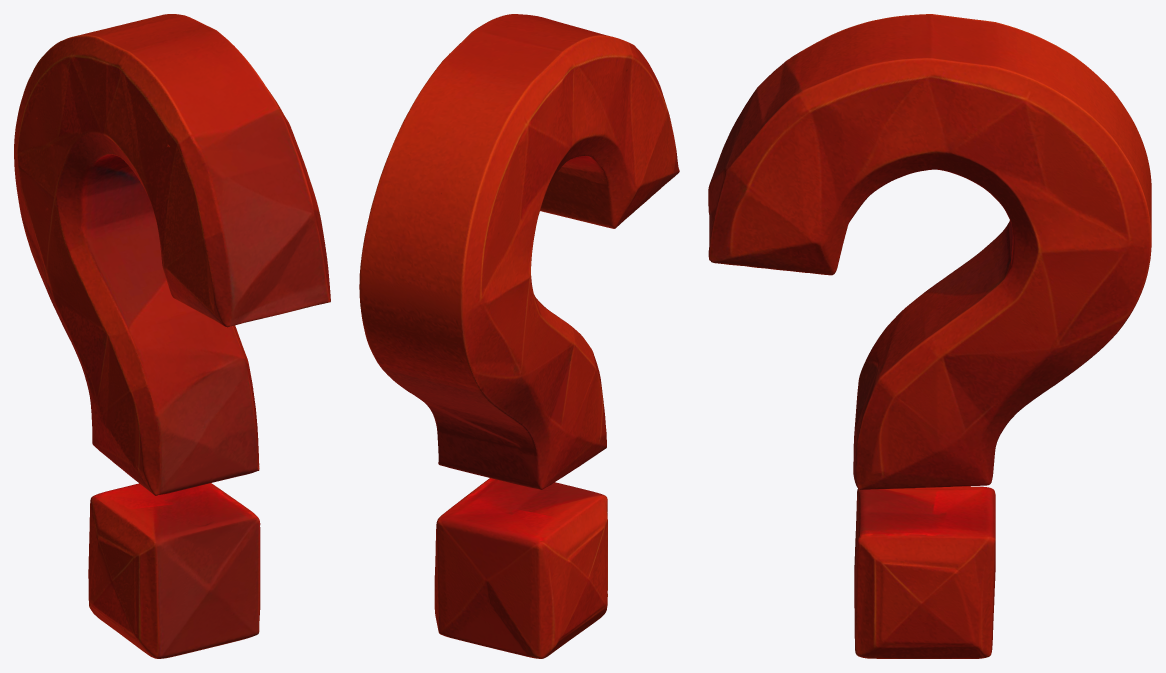
Rendered from Znak_Zapytania.glb.
3 views of the same model, side by side, from view 1: azimuth 30°, elevation 25°; view 2: azimuth 150°, elevation 25°; view 3: azimuth 270°, elevation 25° (orthographic). The views are drawn at different scales.
Parts seen in each view (by area): view 1: tripo_node_4ef3e56b; view 2: tripo_node_4ef3e56b; view 3: tripo_node_4ef3e56b.
Part boxes in pixels (left/top/right/bottom): tripo_node_4ef3e56b: left=14, top=14, right=330, bottom=658; tripo_node_4ef3e56b: left=359, top=14, right=679, bottom=658; tripo_node_4ef3e56b: left=708, top=14, right=1151, bottom=658.
Size of the model in its own units: 0.2304 by 1 by 0.6675.
Materials: 1 (1 with a texture image).
